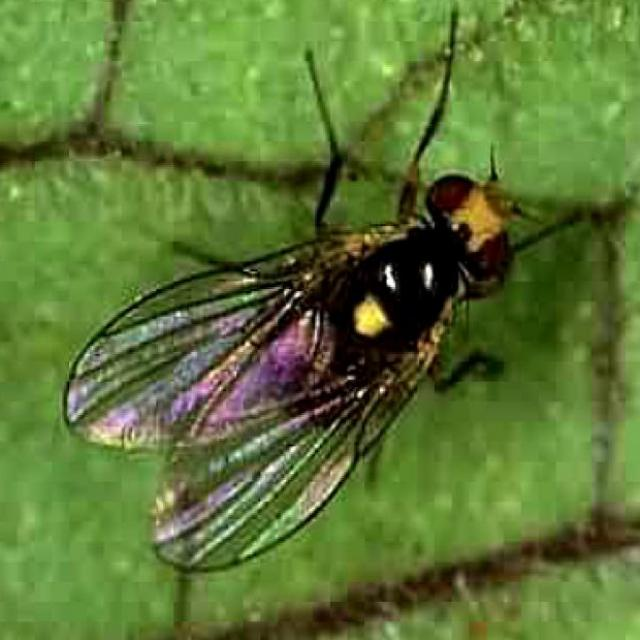Serpentine leafminer: (53, 0, 638, 580)
